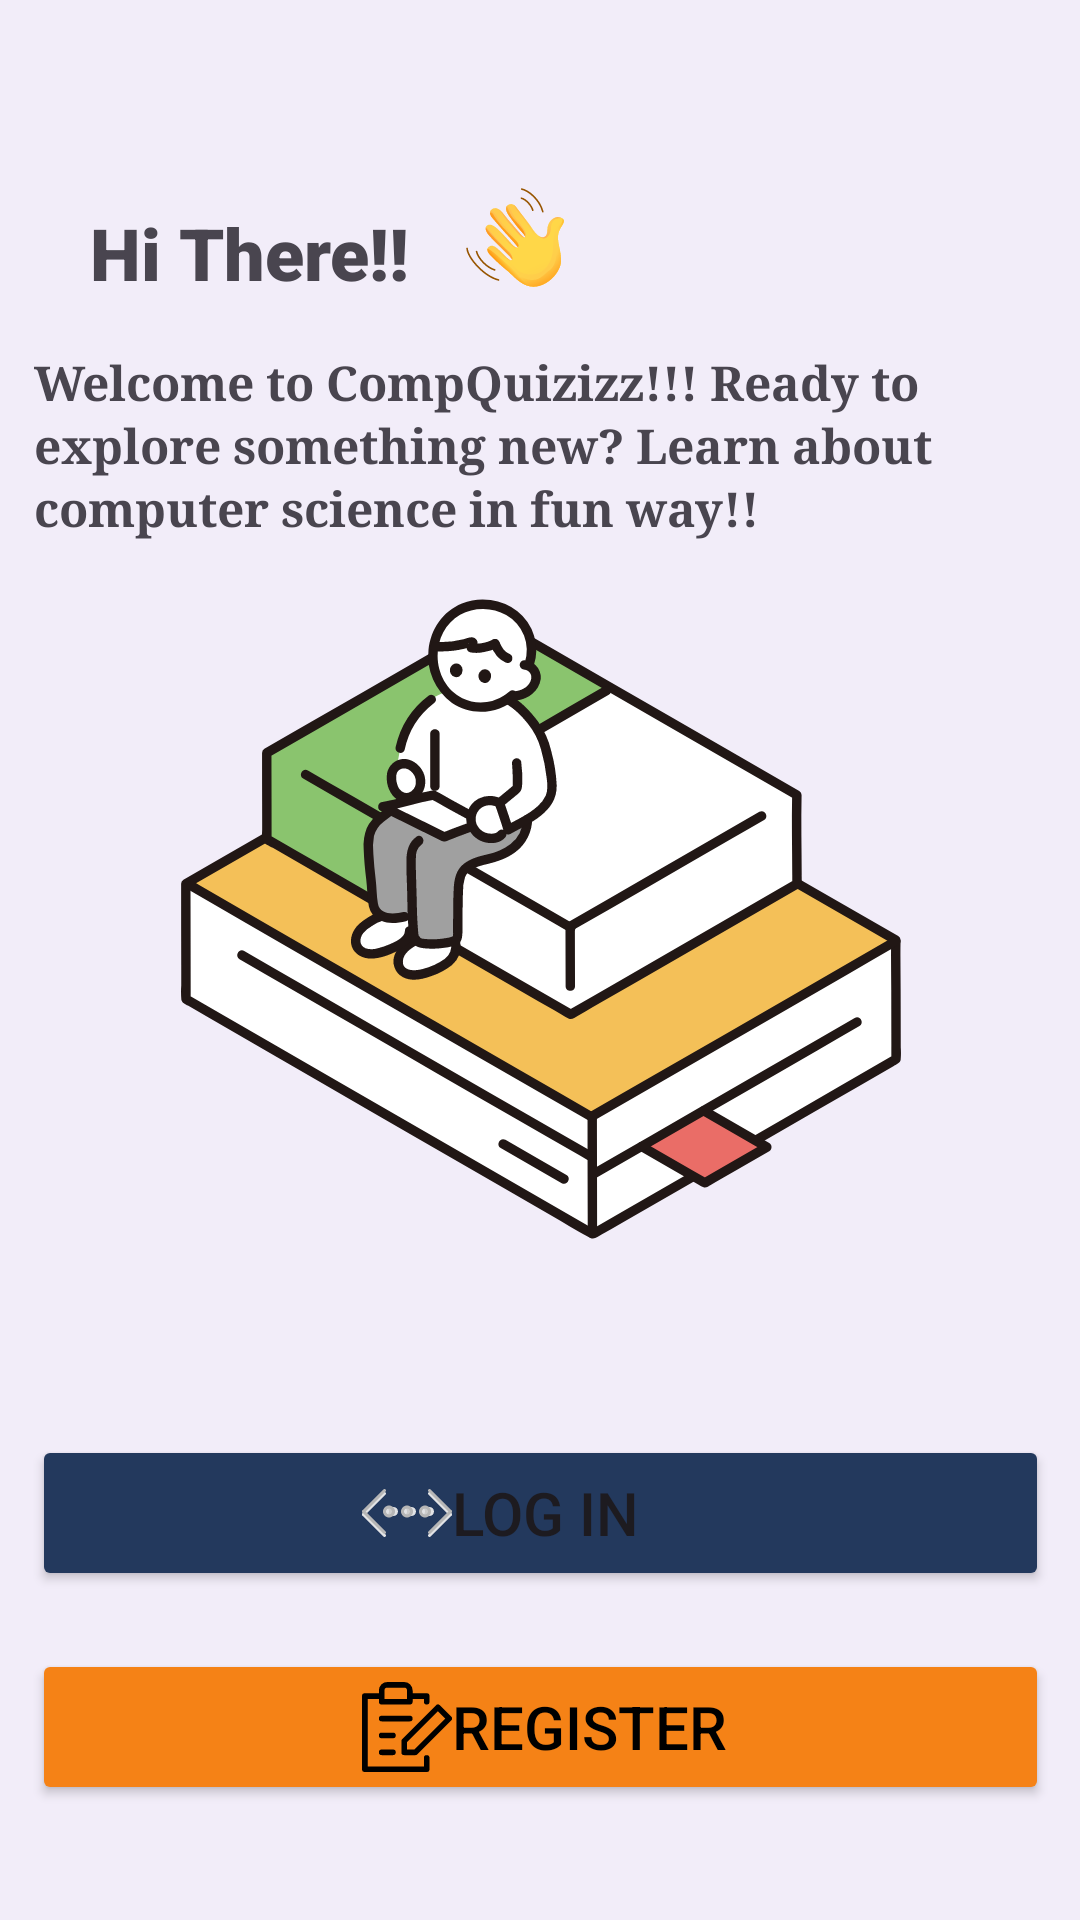

Point at icon controls on the screen. Image size 1080px x 1920px, points as [x,y].
hand wave: [515,237]
